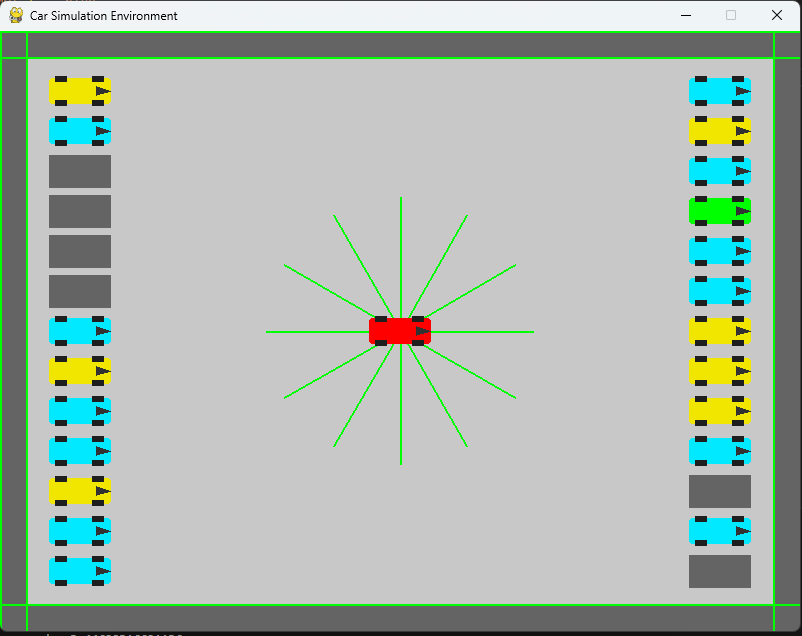ControlledCar: (365, 311, 450, 354)
ParkedCar: (45, 111, 114, 153), (684, 193, 757, 232), (686, 71, 754, 111), (44, 70, 115, 108), (48, 553, 119, 589), (684, 514, 752, 551), (685, 354, 754, 390), (46, 475, 119, 509), (45, 311, 112, 348), (44, 514, 114, 549), (685, 313, 753, 349), (686, 114, 755, 149), (686, 234, 751, 271), (46, 355, 114, 390), (46, 395, 115, 429), (49, 435, 113, 471), (686, 274, 753, 307), (687, 434, 756, 466), (687, 154, 753, 187), (686, 397, 753, 429)
ParkingSpot: (683, 469, 759, 513), (43, 192, 117, 231), (683, 554, 754, 593), (43, 234, 116, 271), (44, 153, 116, 190), (45, 271, 114, 309)
